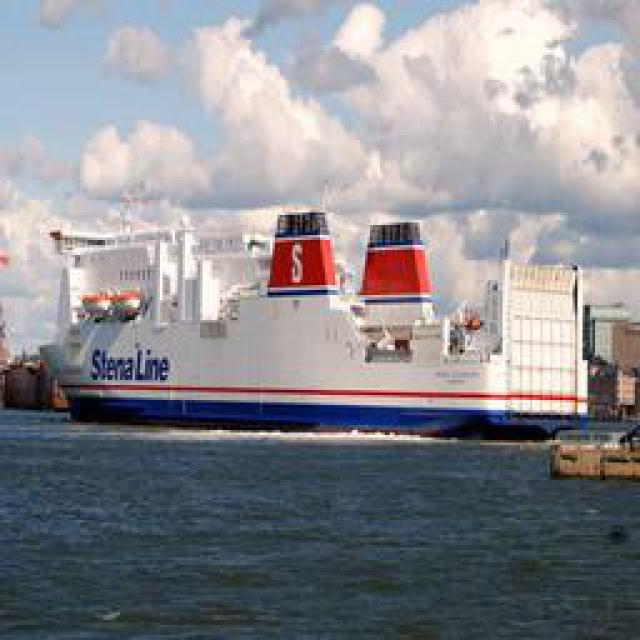Ship: (43, 211, 640, 436)
